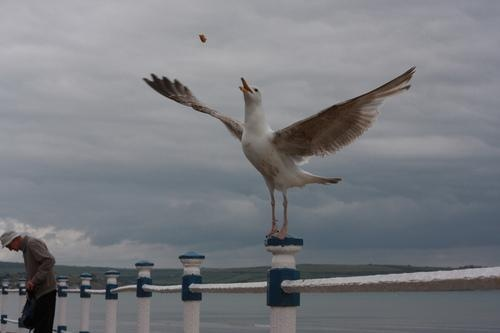bird: (143, 64, 417, 234)
